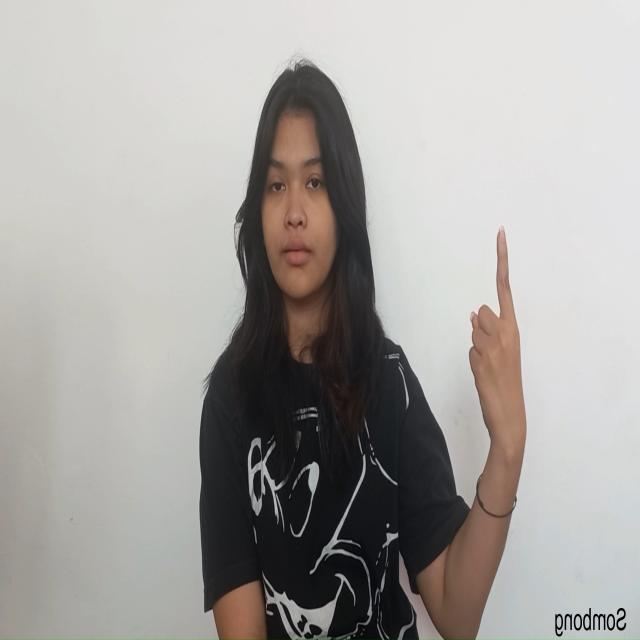Sombong -BISINDO-: (467, 222, 529, 474)
